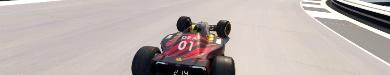Car: (130, 16, 236, 74)
Solid White and black: (299, 0, 389, 74)
